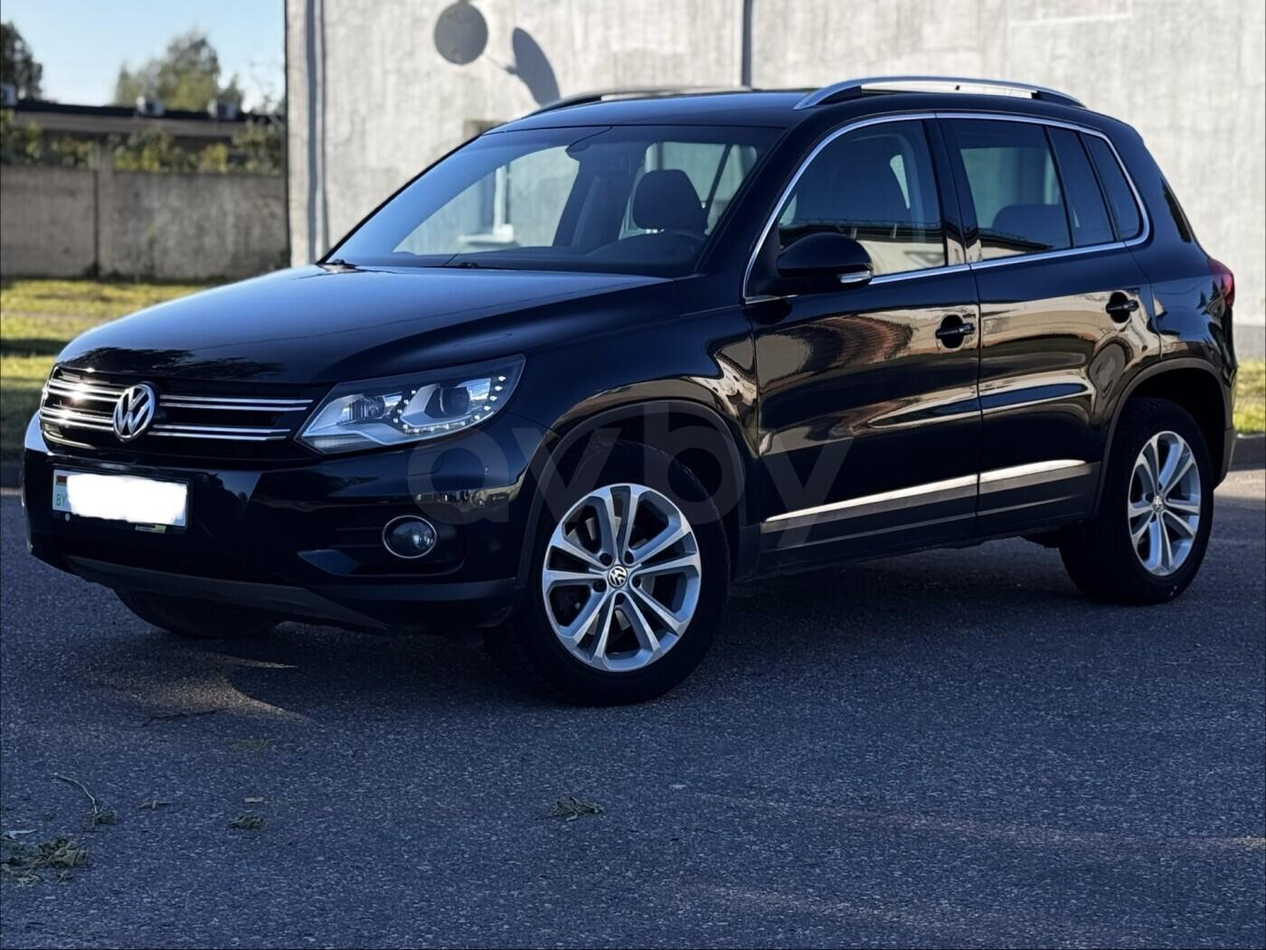Tiguan_2011-2018: (17, 79, 1245, 706)
